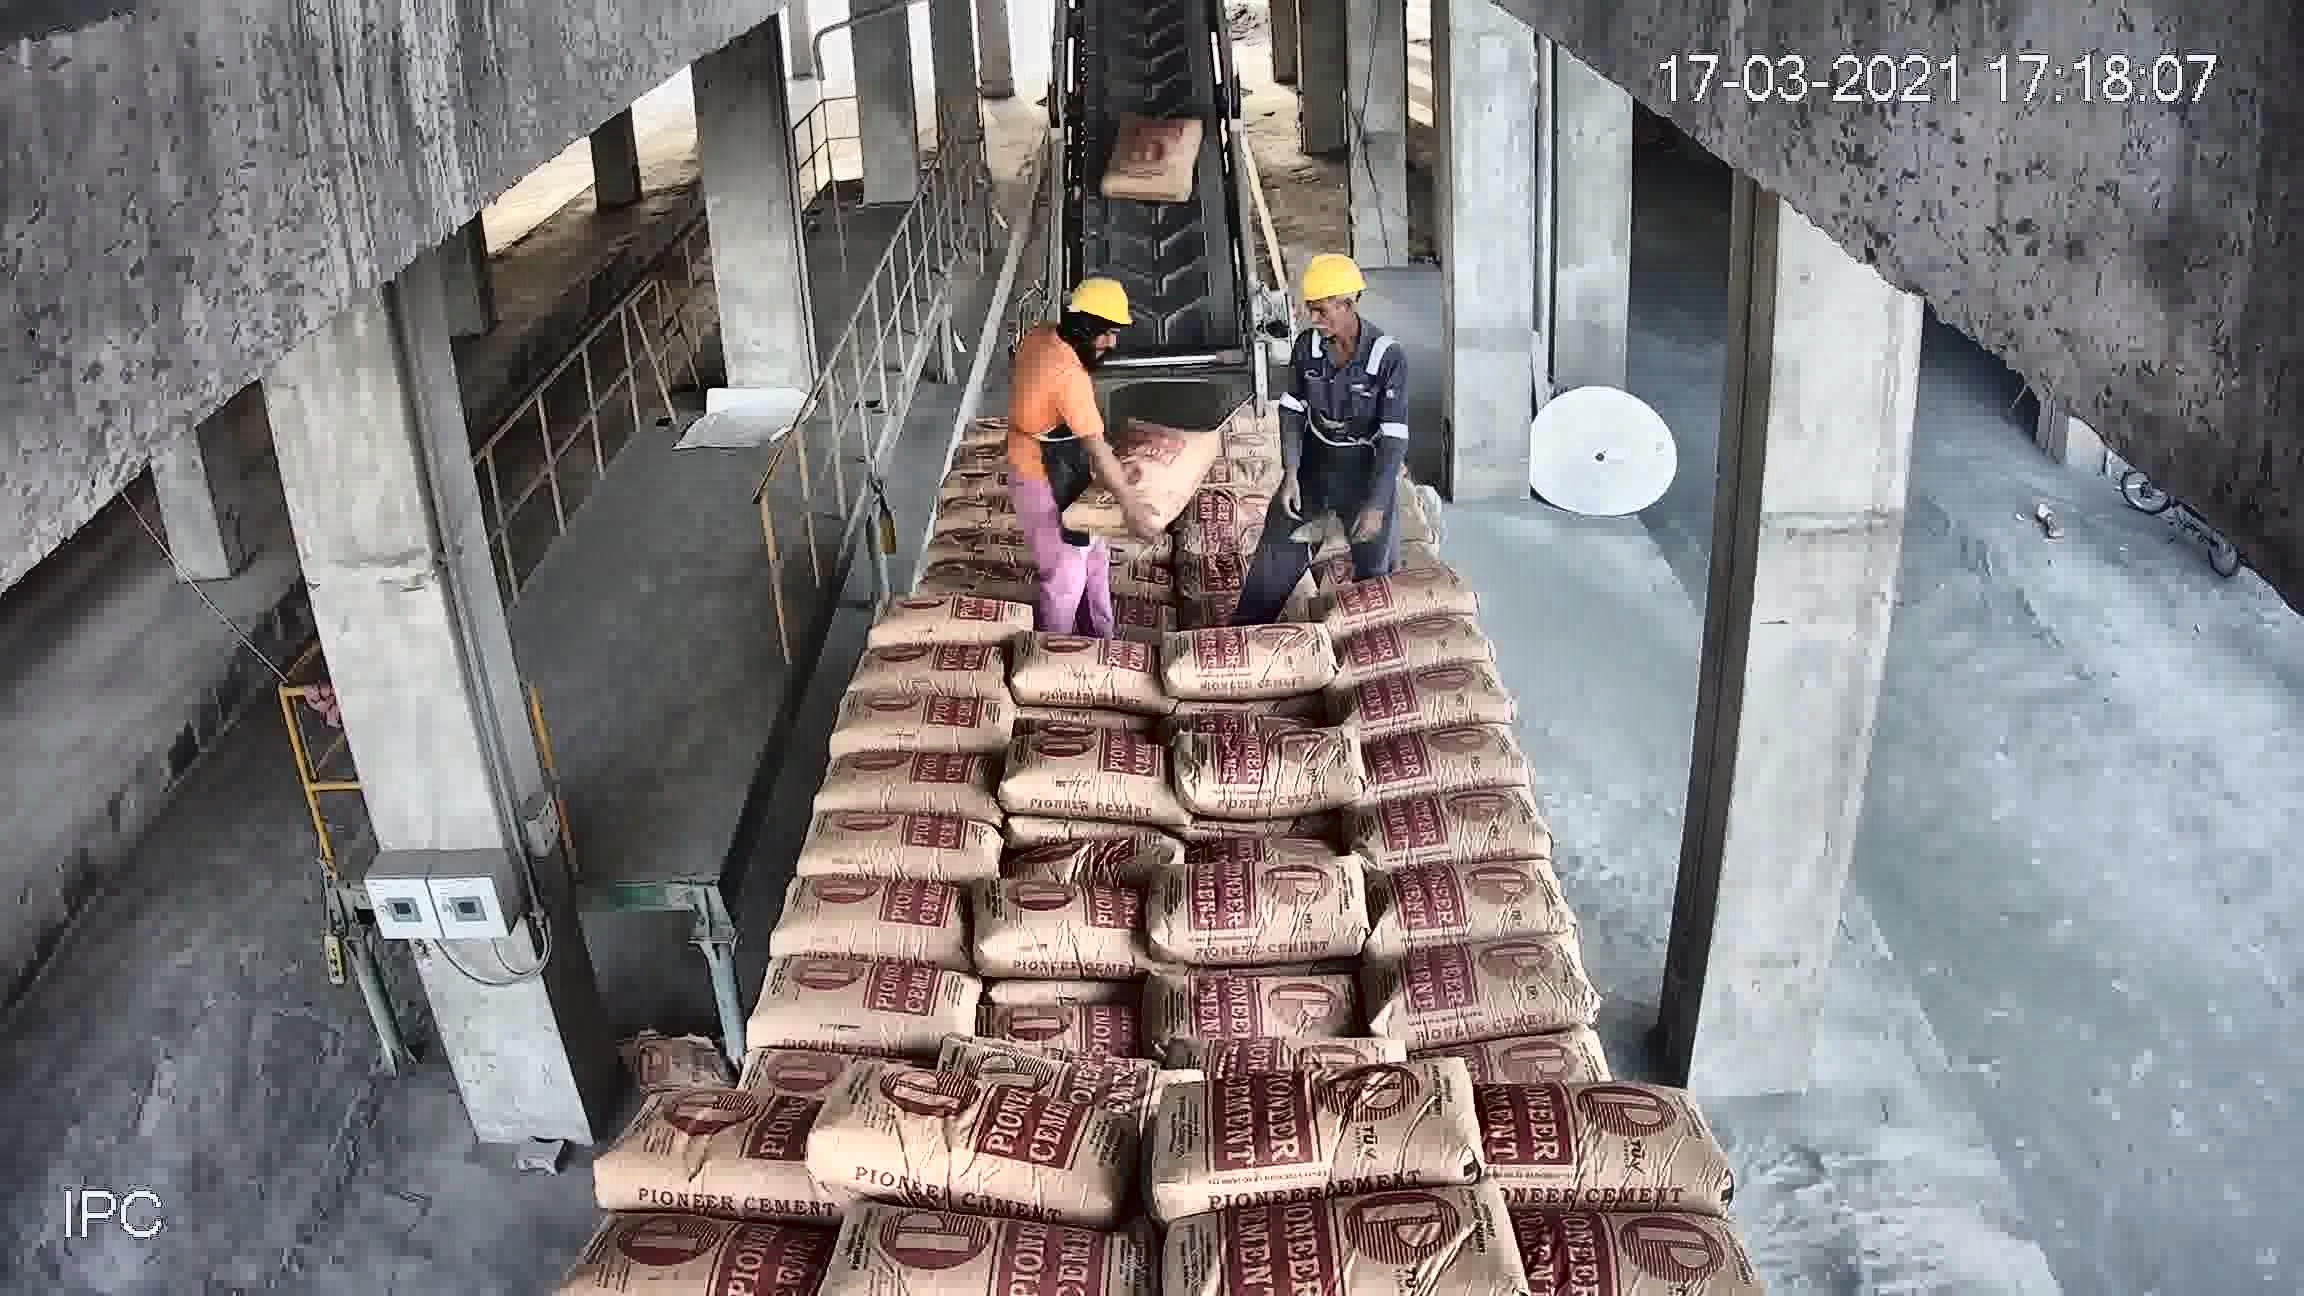bag: (1105, 109, 1204, 203)
bag_h: (1154, 1059, 1500, 1220), (821, 1065, 1139, 1207), (1171, 1180, 1511, 1294), (1480, 1070, 1745, 1207), (818, 1195, 1146, 1296), (1519, 1180, 1766, 1294), (597, 1097, 818, 1223), (1374, 927, 1597, 1041), (571, 1203, 839, 1296), (1146, 965, 1370, 1071), (753, 956, 980, 1052), (1160, 855, 1375, 949), (973, 873, 1154, 983), (1173, 725, 1366, 824), (1366, 851, 1568, 946), (772, 872, 973, 962), (1158, 620, 1343, 714), (1003, 729, 1185, 820), (934, 1033, 1152, 1108), (812, 745, 1017, 820), (1348, 786, 1549, 858), (1006, 628, 1165, 718), (798, 813, 1006, 881), (1359, 714, 1527, 794), (1065, 427, 1199, 525), (836, 690, 1021, 756), (1331, 608, 1486, 682), (984, 991, 1158, 1055), (1038, 832, 1207, 897), (856, 638, 1017, 706), (1351, 665, 1510, 729), (1328, 570, 1483, 635), (873, 592, 1033, 650), (900, 559, 1010, 600), (918, 533, 1021, 568), (934, 494, 1014, 535)
belt: (1059, 33, 1258, 445)
